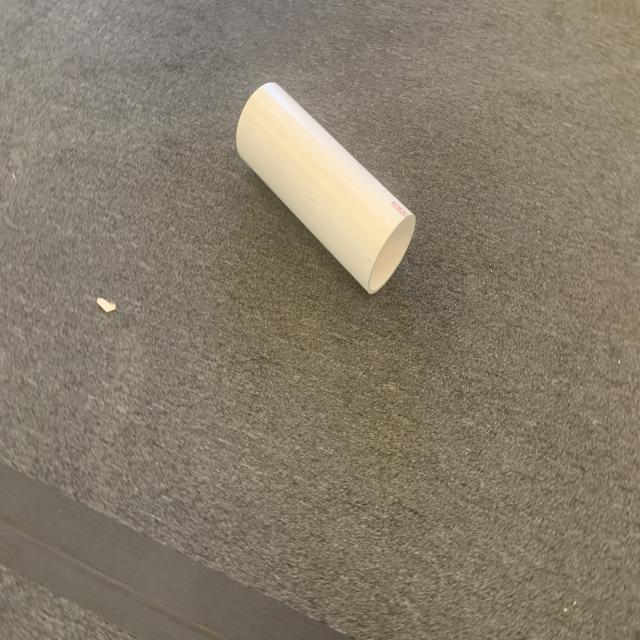Coral: (235, 80, 416, 295)
